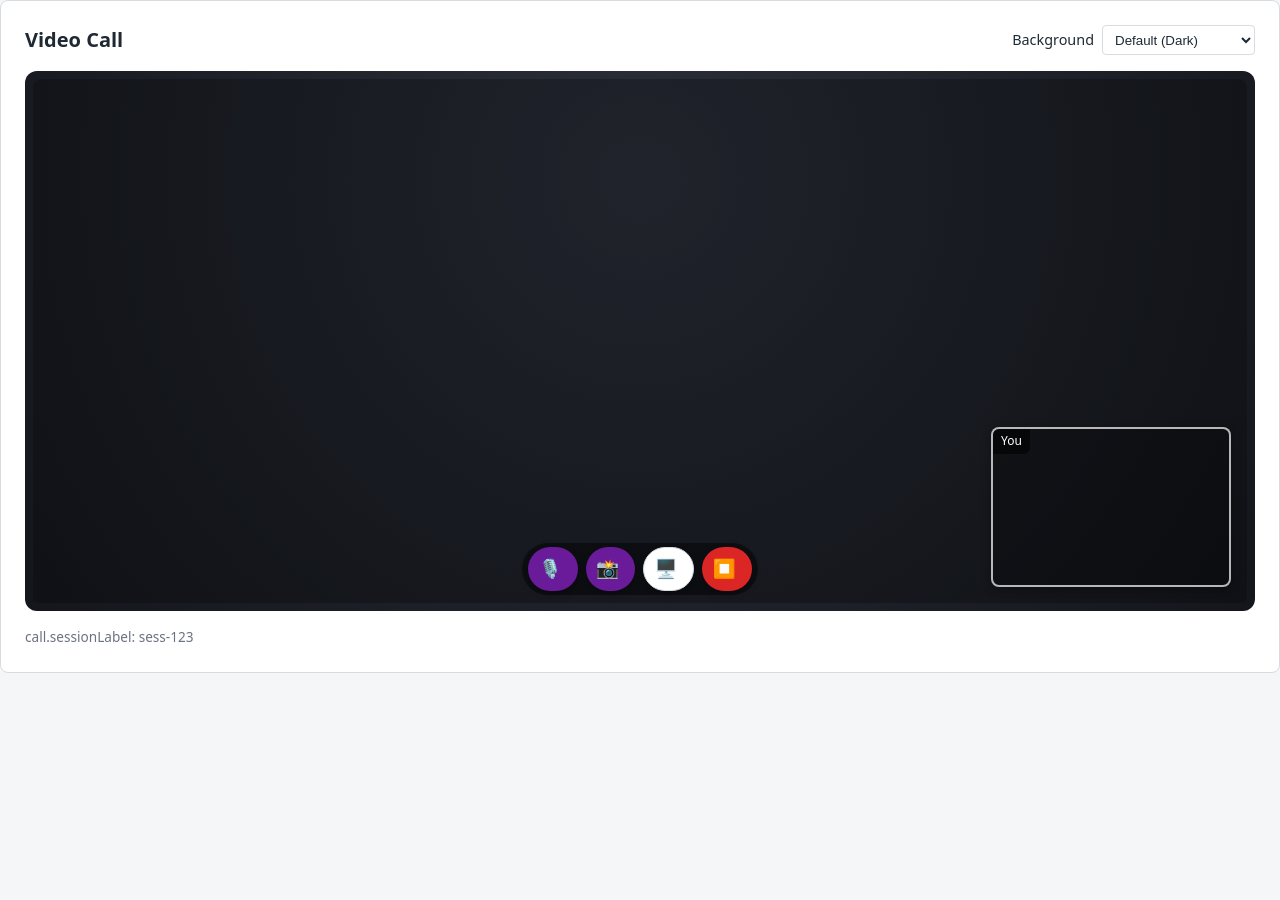
CallPage 管理者の画面共有フロー › 画面共有開始・停止の完全フローで UI 状態が正しく遷移する
// 共有開始ボタンをクリック。
Click the button "Share document": click(669, 569) 643,547 -> 694,591
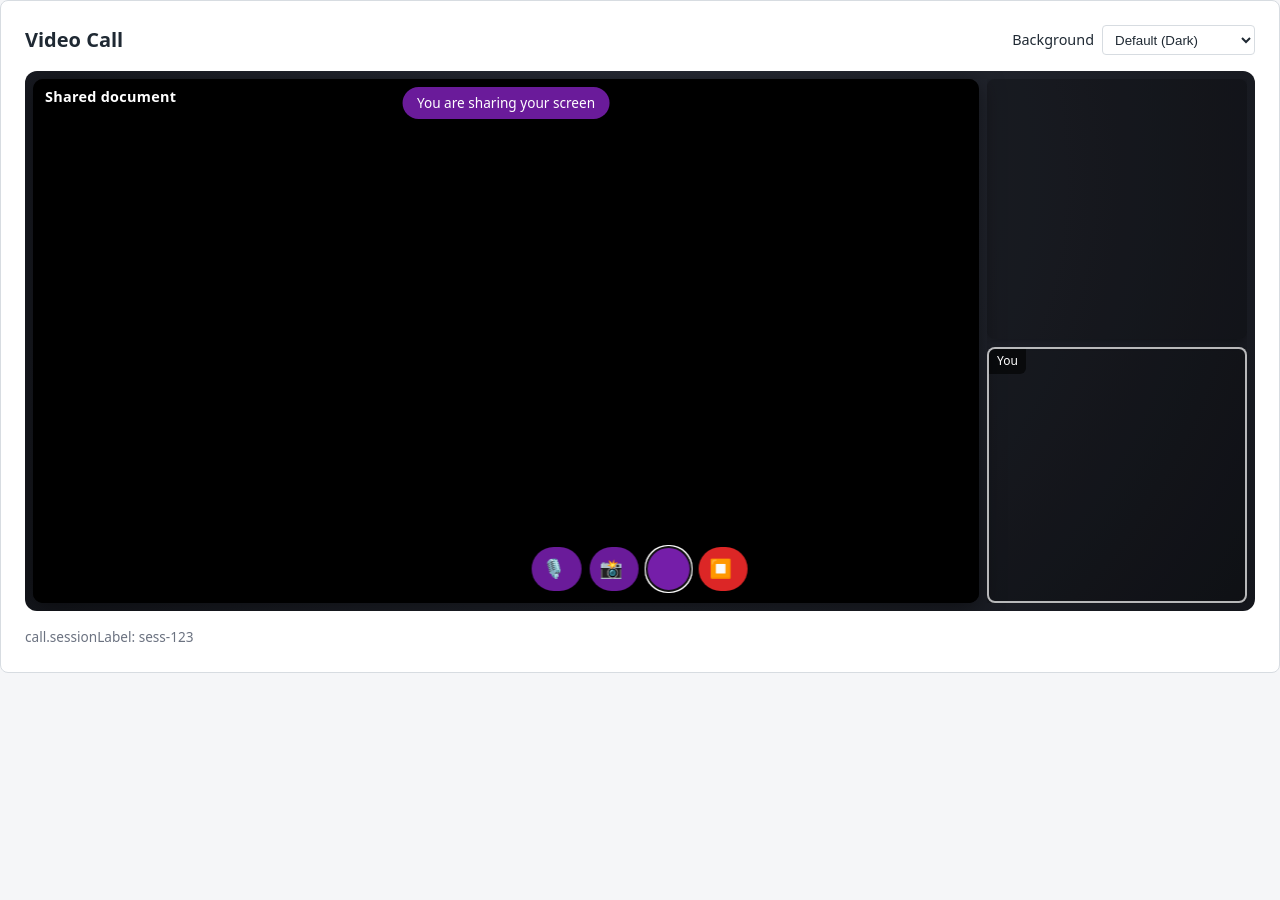
Check: the text "You are sharing your screen" is shown, box 402,87 -> 609,119
// 共有停止ボタンをクリック。
Click the button "Stop sharing": click(669, 569) 647,547 -> 691,591
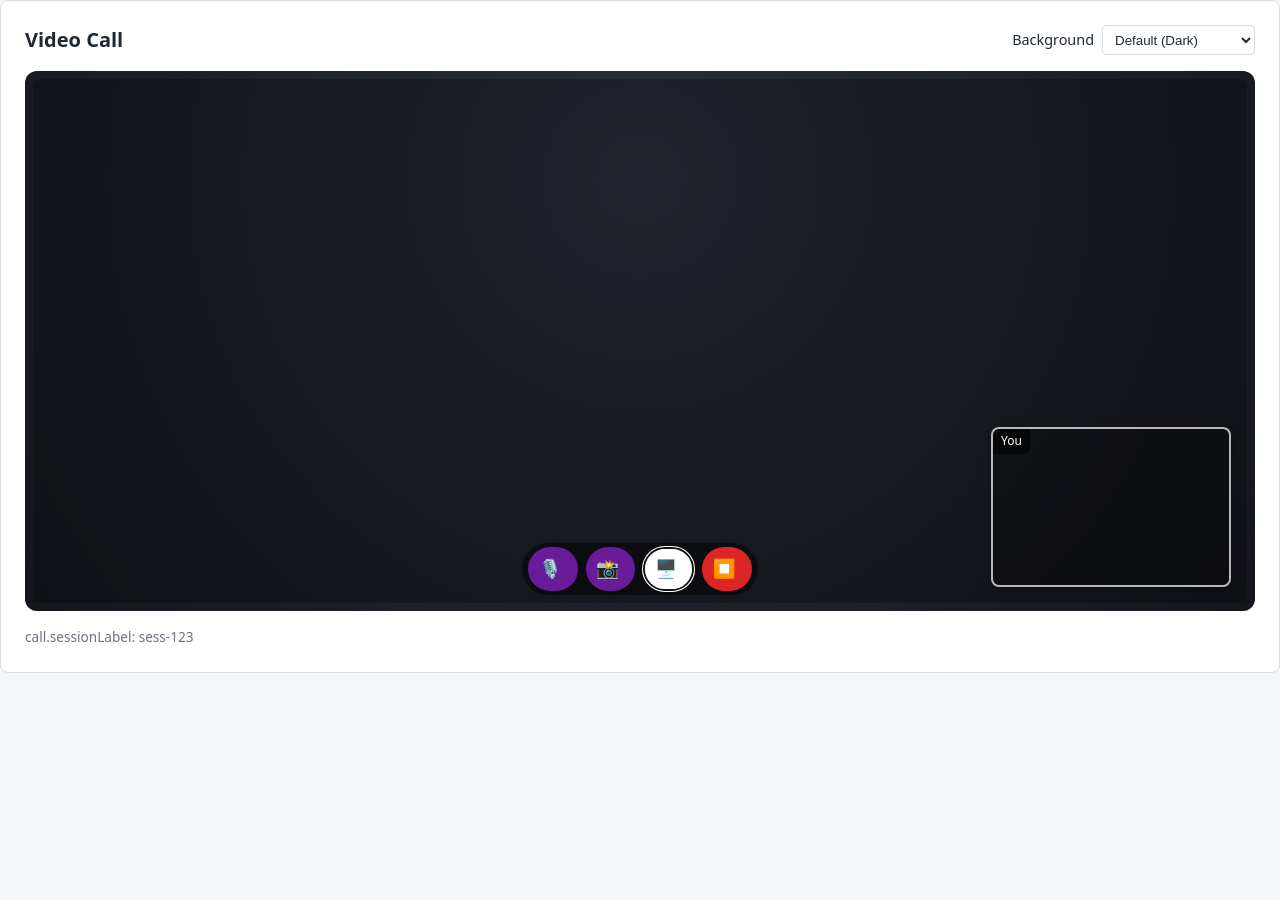
Check: the text "You are sharing your screen" is gone
